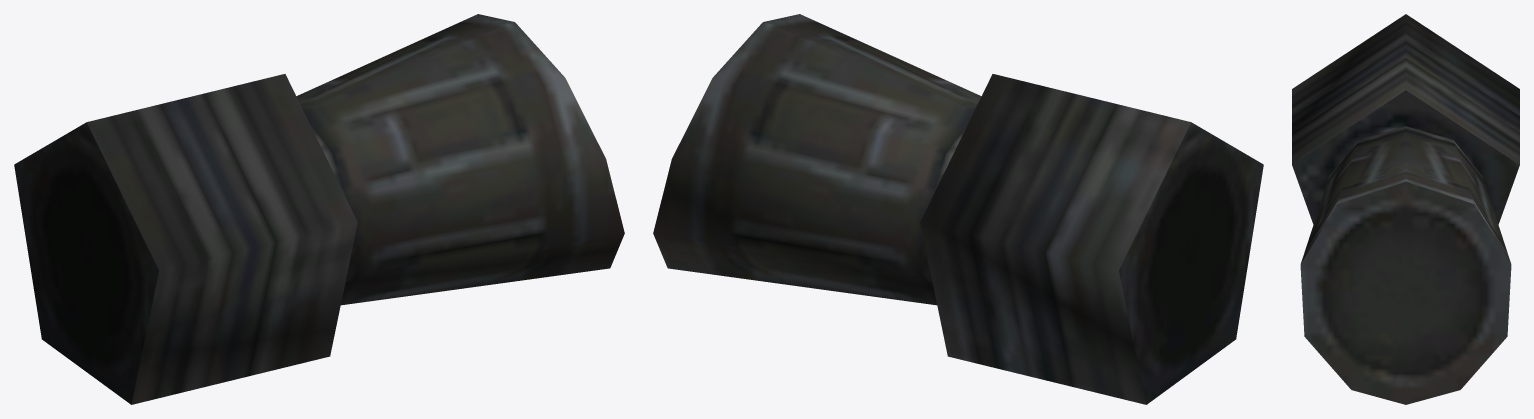
The model's file is Pickup_WeaponZj05.glb.
3 views of the same model, side by side, from view 1: azimuth 30°, elevation 25°; view 2: azimuth 150°, elevation 25°; view 3: azimuth 270°, elevation 25° (orthographic). The views are drawn at different scales.
Visible parts, largest first — view 1: pk_weapon_zj05; view 2: pk_weapon_zj05; view 3: pk_weapon_zj05.
Part boxes in pixels (left/top/right/bottom): pk_weapon_zj05: left=14, top=14, right=624, bottom=404; pk_weapon_zj05: left=653, top=14, right=1263, bottom=404; pk_weapon_zj05: left=1292, top=14, right=1519, bottom=404.
Size of the model in its own units: 0.1367 by 0.068 by 0.0696.
1 material, 1 textured.
